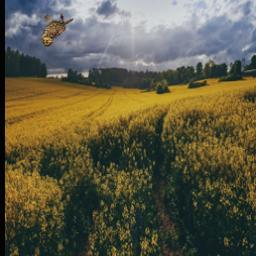Sparrow: (42, 14, 74, 48)
